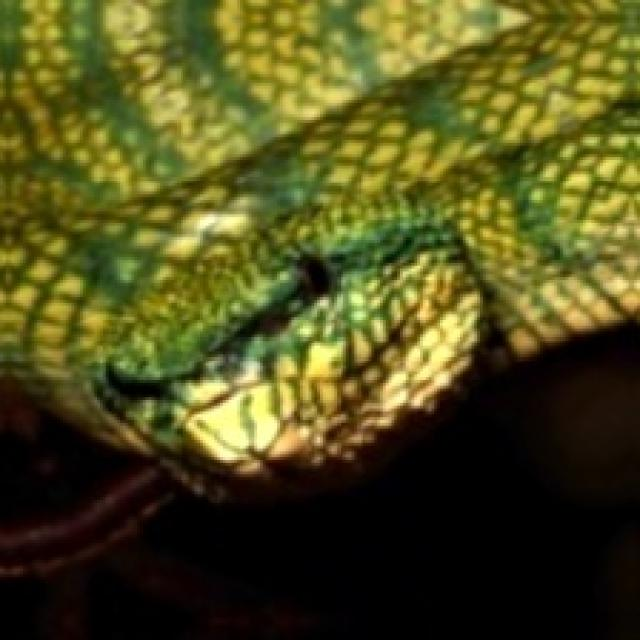north ph temple pitviper: (0, 0, 640, 499)
